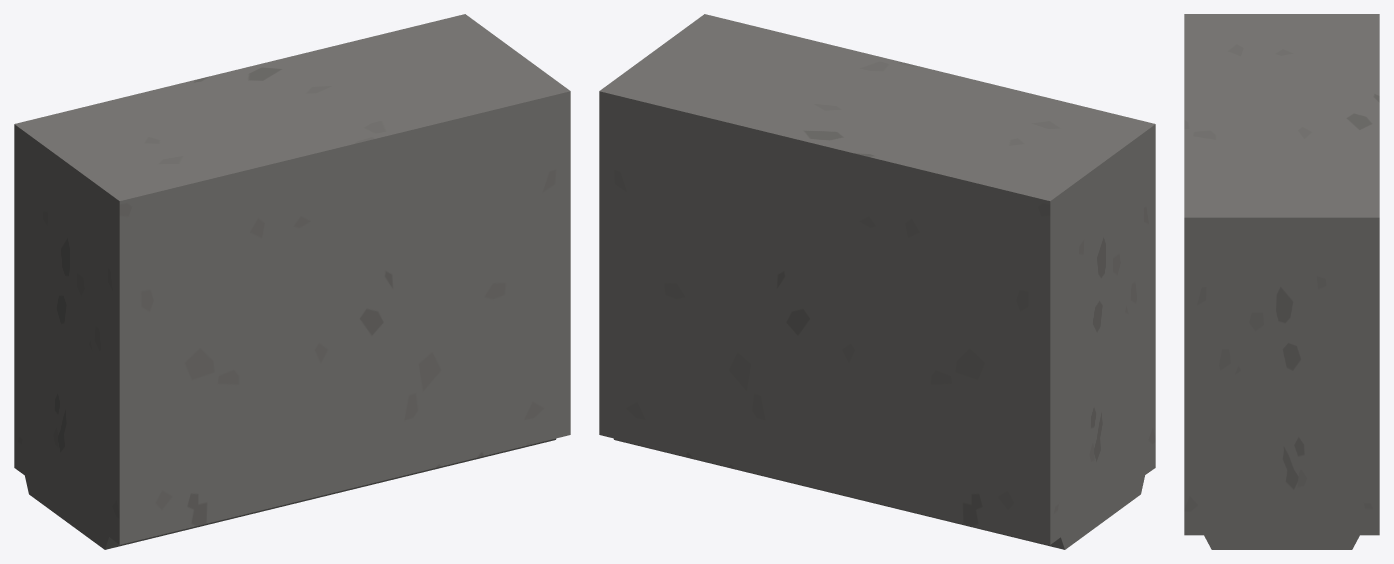
The model's file is SM_Bld_Tunnel_Curved_Pillar_03.fbx.
3 renders of one model, left to right at view 1: azimuth 30°, elevation 25°; view 2: azimuth 150°, elevation 25°; view 3: azimuth 270°, elevation 25°, orthographic. The views are drawn at different scales.
Visible parts, largest first — view 1: SM_Bld_Tunnel_Curved_Pillar_03; view 2: SM_Bld_Tunnel_Curved_Pillar_03; view 3: SM_Bld_Tunnel_Curved_Pillar_03.
Part boxes in pixels (x1,y1,x2,y2): SM_Bld_Tunnel_Curved_Pillar_03: (14,14,570,549); SM_Bld_Tunnel_Curved_Pillar_03: (599,14,1155,549); SM_Bld_Tunnel_Curved_Pillar_03: (1184,14,1379,549).
Bounding box in the file's own units: 125 × 95.2 × 50.62.
